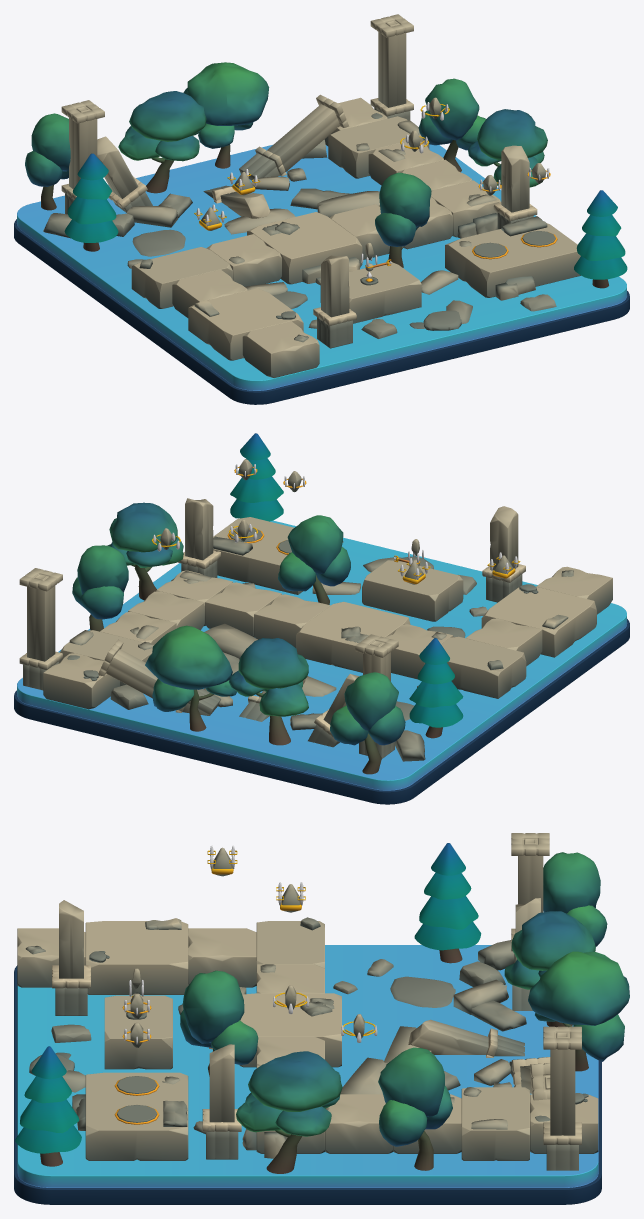
Rendered from level_1.fbx.
3 renders of one model, top to bottom at view 1: azimuth 30°, elevation 25°; view 2: azimuth 150°, elevation 25°; view 3: azimuth 270°, elevation 25°, orthographic. The views are drawn at different scales.
Parts seen in each view (by area): view 1: Plane.001, Cube.007, Sphere.004, Sphere.006, Cube.001, Cube.003, Cube.034, Sphere.010, Sphere.003, Sphere.009, Sphere.005, Sphere.011 (+29 smaller); view 2: Plane.001, Sphere.006, Sphere.004, Sphere.008, Sphere.010, Cube.015, Cube.003, Cube.001, Sphere.011, Cube.013, Cube.029, Sphere.003 (+21 smaller); view 3: Plane.001, Sphere.011, Sphere.006, Cube.007, Cube.001, Sphere.003, Sphere.010, Sphere.009, Sphere.005, Cube.006, Cube.029, Cube.015 (+30 smaller).
Boxes of the visible parts, x1=… form: Plane.001: x1=14, y1=144, x2=629, y2=404; Cube.007: x1=445, y1=223, x2=580, y2=297; Sphere.004: x1=118, y1=91, x2=206, y2=193; Sphere.006: x1=183, y1=62, x2=269, y2=168; Cube.001: x1=188, y1=288, x2=303, y2=360; Cube.003: x1=247, y1=212, x2=362, y2=284; Cube.034: x1=239, y1=94, x2=348, y2=180; Sphere.010: x1=375, y1=172, x2=431, y2=267; Sphere.003: x1=418, y1=78, x2=485, y2=172; Sphere.009: x1=64, y1=153, x2=118, y2=251; Sphere.005: x1=574, y1=190, x2=627, y2=288; Sphere.011: x1=468, y1=109, x2=547, y2=187; Plane.001: x1=14, y1=520, x2=629, y2=804; Sphere.006: x1=145, y1=625, x2=236, y2=731; Sphere.004: x1=229, y1=638, x2=308, y2=745; Sphere.008: x1=330, y1=672, x2=405, y2=774; Sphere.010: x1=278, y1=515, x2=350, y2=604; Cube.015: x1=362, y1=560, x2=463, y2=621; Cube.003: x1=296, y1=601, x2=410, y2=672; Cube.001: x1=481, y1=586, x2=596, y2=657; Sphere.011: x1=107, y1=502, x2=183, y2=600; Cube.013: x1=425, y1=636, x2=526, y2=698; Cube.029: x1=19, y1=568, x2=62, y2=690; Sphere.003: x1=72, y1=545, x2=128, y2=631; Plane.001: x1=14, y1=945, x2=601, y2=1204; Sphere.011: x1=236, y1=1051, x2=342, y2=1173; Sphere.006: x1=528, y1=951, x2=629, y2=1071; Cube.007: x1=85, y1=1072, x2=188, y2=1160; Cube.001: x1=85, y1=921, x2=188, y2=994; Sphere.003: x1=378, y1=1047, x2=452, y2=1170; Sphere.010: x1=180, y1=970, x2=258, y2=1076; Sphere.009: x1=414, y1=843, x2=481, y2=963; Sphere.005: x1=15, y1=1046, x2=81, y2=1166; Cube.006: x1=461, y1=1087, x2=529, y2=1160; Cube.029: x1=543, y1=1026, x2=581, y2=1170; Cube.015: x1=104, y1=995, x2=172, y2=1069.
Bounding box in the file's own units: 1705 × 519 × 1802.
3 materials, 2 textured.
